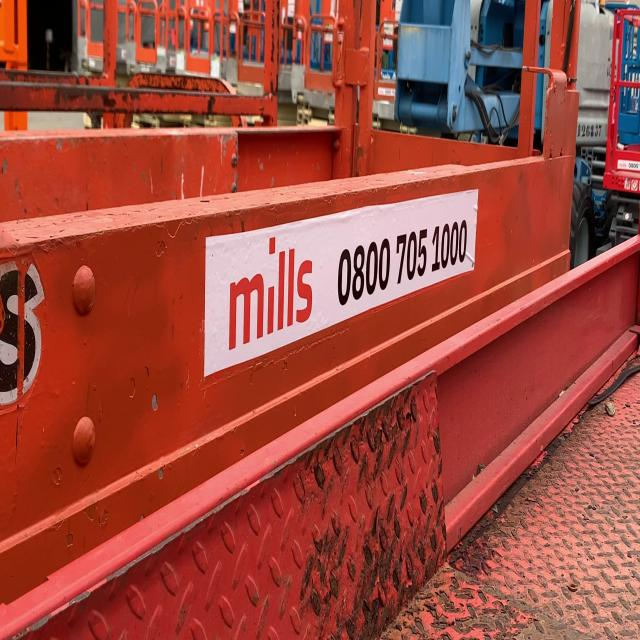Adesivo Longo: (202, 180, 481, 382)
